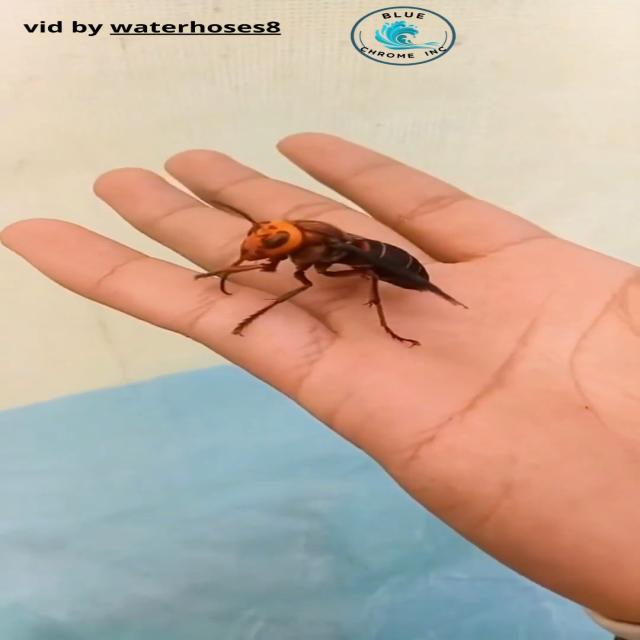Hornets: (187, 198, 477, 350)
